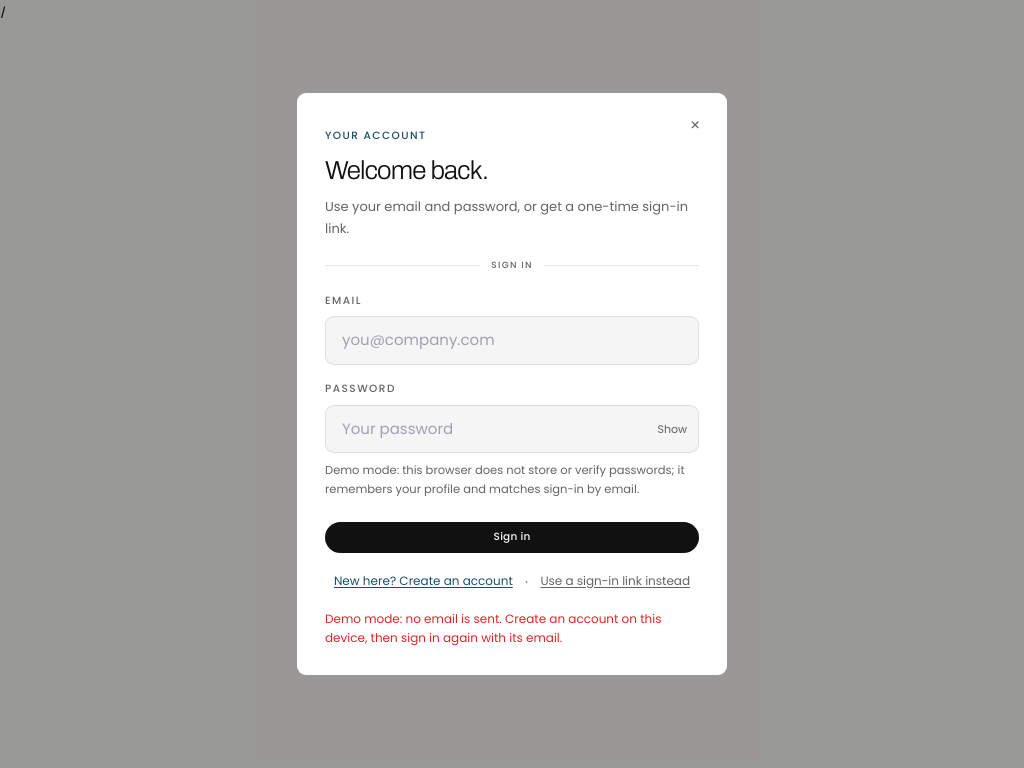
AuthDialog › shows a failed password sign-in without losing the form
Step 1. Type "driver@example.com" into the field labelled "Email" → (512, 341), box [325, 316, 699, 365]
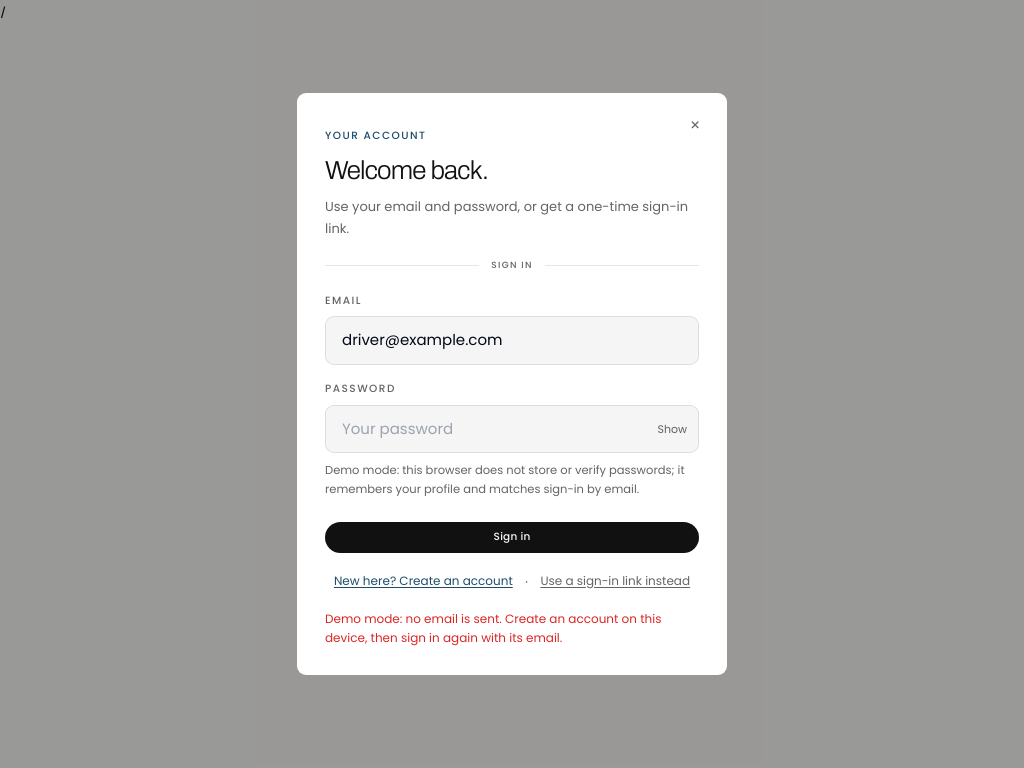
Step 2. Type "wrong-password" into the password field labelled "Password" → (512, 429), box [325, 405, 699, 453]
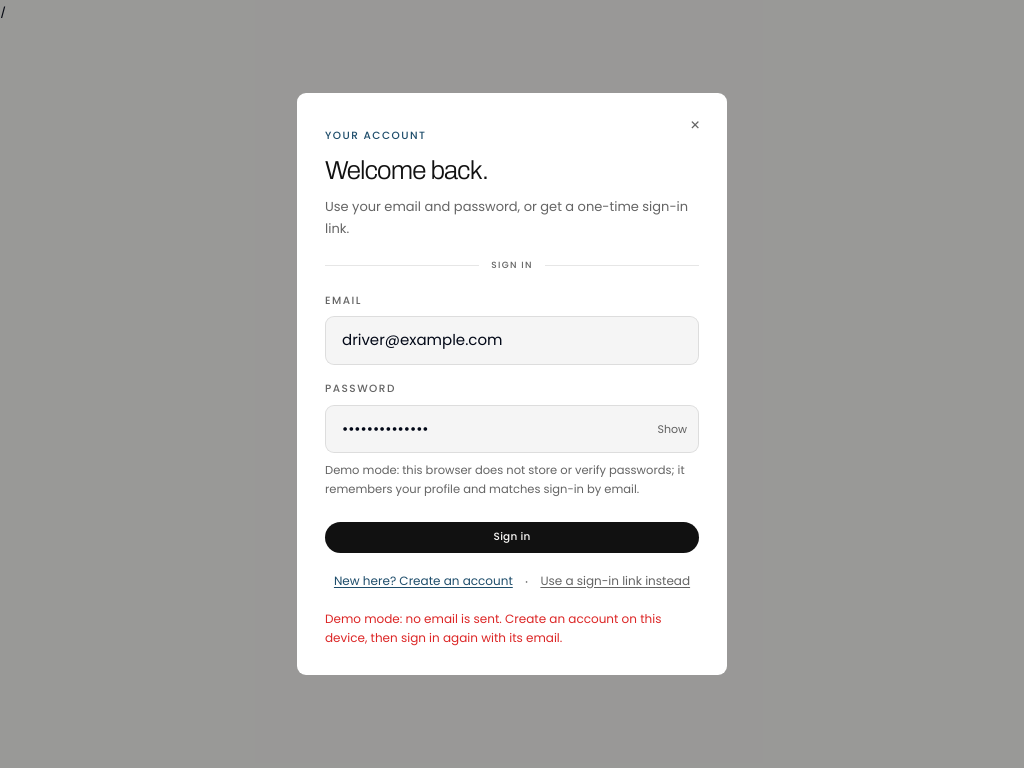
Step 3. Click the button "Sign in" → (512, 537), box [325, 522, 699, 553]
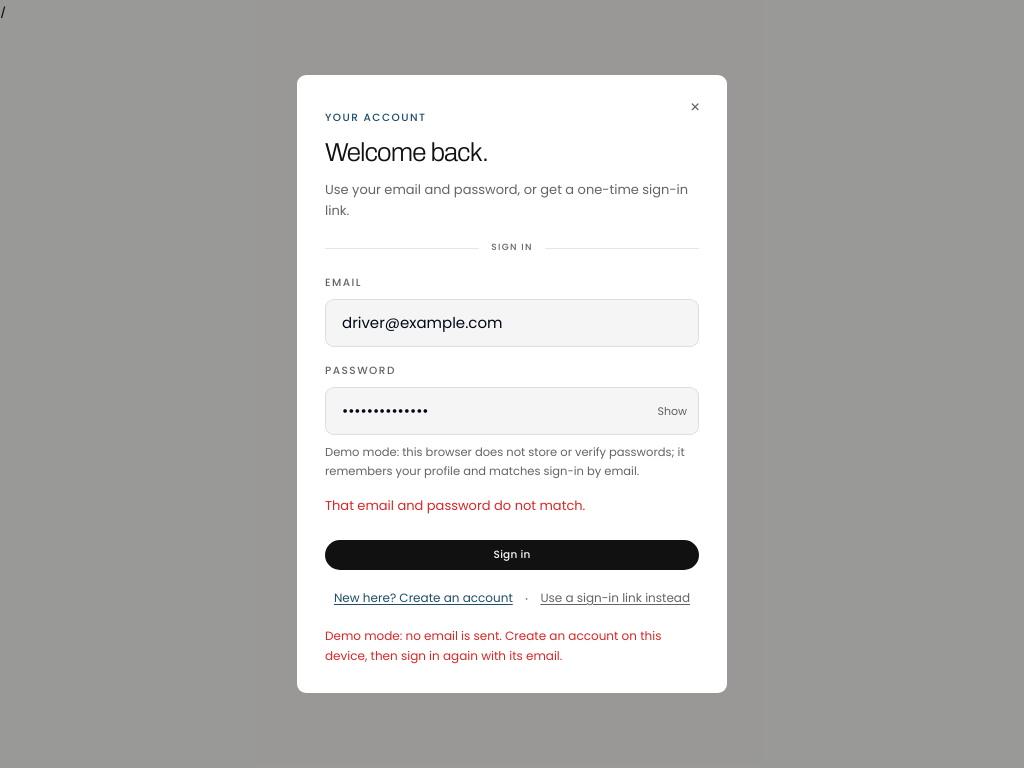
Check: the message reads "That email and password do not match.", box [325, 496, 585, 515]
